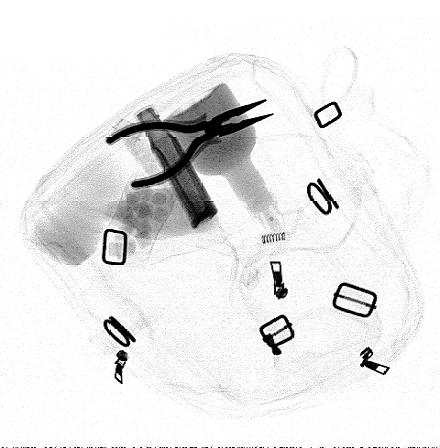Pliers: (105, 99, 276, 190)
